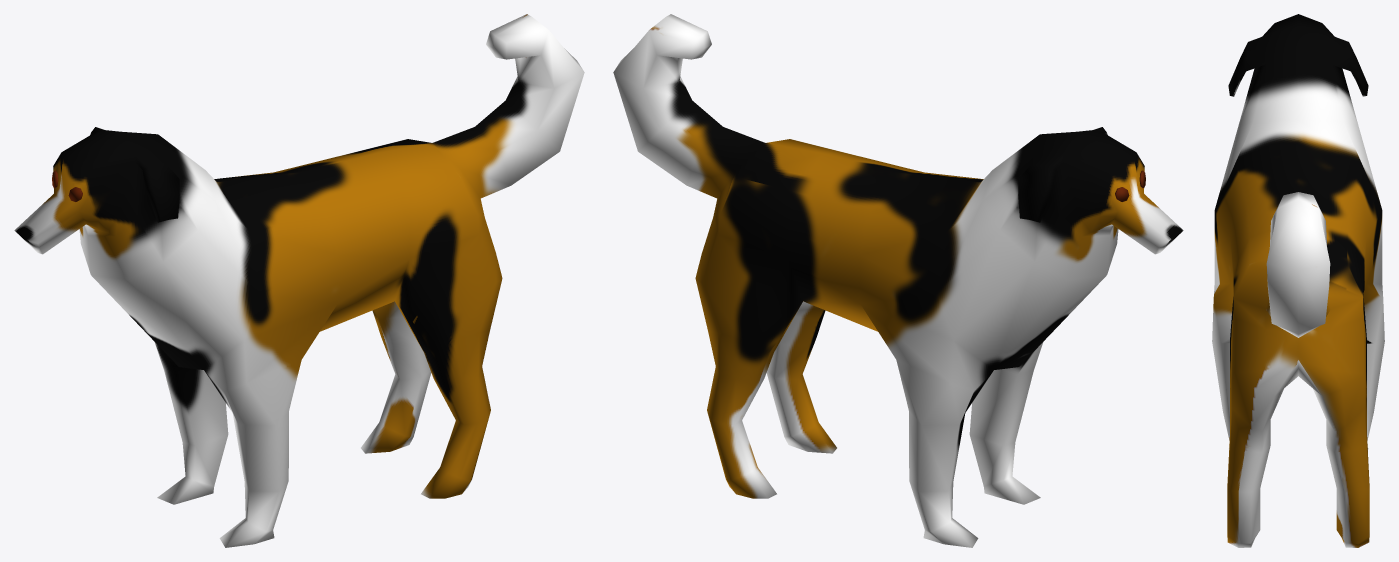
The model's file is dog.glb.
The picture shows the model from 3 angles, left to right: view 1: azimuth 30°, elevation 25°; view 2: azimuth 150°, elevation 25°; view 3: azimuth 270°, elevation 25°; orthographic projection. The views are drawn at different scales.
Visible parts, largest first — view 1: Cube; view 2: Cube; view 3: Cube.
Part boxes in pixels (bbox=[...]): Cube: bbox=[14, 14, 584, 547]; Cube: bbox=[613, 14, 1183, 547]; Cube: bbox=[1212, 14, 1384, 547].
Size of the model in its own units: 12.13 by 8.81 by 3.52.
Materials: 1 (1 with a texture image).
